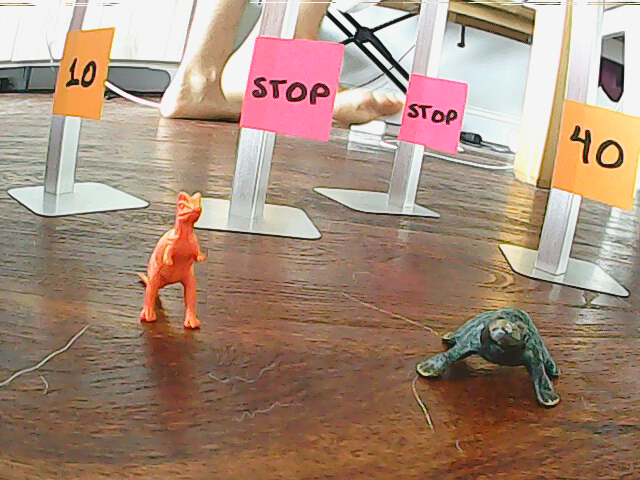10: (59, 36, 103, 108)
40: (561, 117, 635, 194)
dinosaur: (129, 186, 209, 334)
stop: (251, 48, 336, 114), (407, 85, 462, 137)
turtle: (411, 305, 574, 412)
